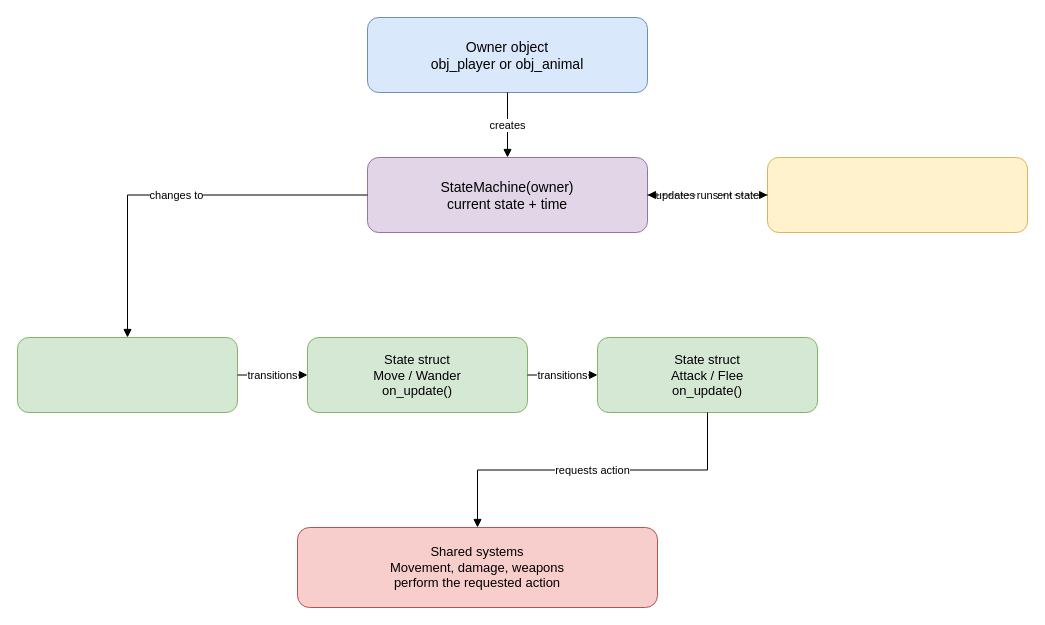
Some shapes in this 1045 by 625 pixel diagram are drawn without their labels. Here are the shapes that lost their labels. From the top down, the box of each, then its label:
(766, 156, 1028, 232): Optional callbacks on_enter() -> on_update() -> on_exit()
(16, 336, 238, 412): State struct Idle / Decide on_update()
